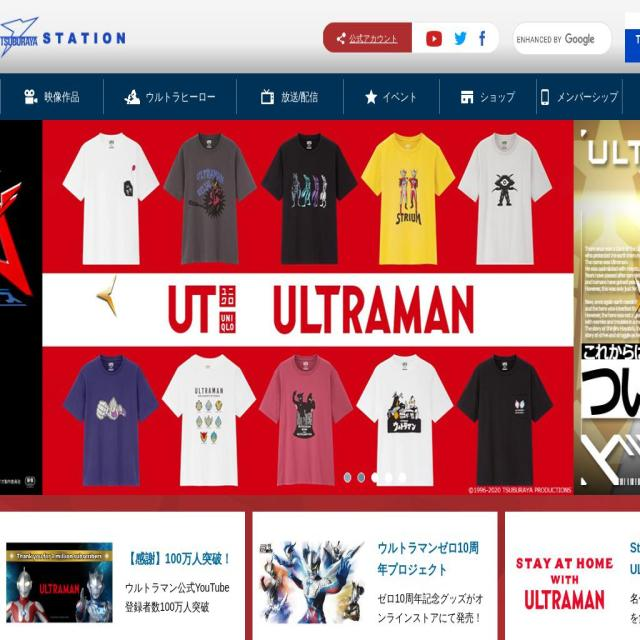button: (109, 120, 640, 495), (0, 120, 109, 495), (103, 73, 236, 120), (236, 73, 343, 120), (0, 73, 103, 120), (439, 73, 536, 120), (343, 73, 439, 120), (536, 73, 622, 120), (95, 273, 117, 319), (625, 12, 640, 62), (632, 273, 640, 319), (357, 472, 365, 482), (371, 472, 379, 482), (385, 472, 393, 482), (344, 472, 351, 482), (399, 472, 406, 482)
field: (516, 32, 606, 46)
heading: (0, 17, 125, 59), (378, 541, 478, 577), (125, 552, 232, 566), (630, 541, 640, 577)
image: (109, 120, 640, 495), (0, 120, 109, 495), (259, 541, 365, 624), (512, 542, 618, 622), (7, 542, 112, 622), (625, 12, 640, 62), (426, 30, 442, 47), (454, 32, 467, 45), (479, 31, 485, 46)
text: (124, 72, 215, 121), (125, 578, 233, 617), (377, 589, 485, 628), (541, 72, 618, 121), (261, 72, 318, 121), (24, 72, 79, 121), (461, 72, 515, 121), (365, 72, 417, 121), (337, 29, 397, 48), (630, 589, 640, 628), (609, 23, 612, 54)
